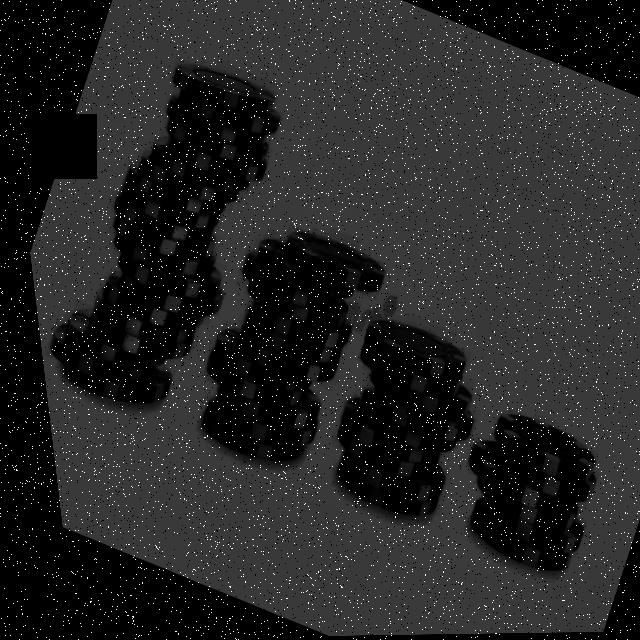Chip: (2, 23, 329, 447), (142, 175, 419, 501), (279, 278, 516, 537), (410, 384, 626, 600)
